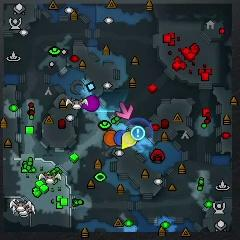Other: (131, 126, 145, 141)
p1: (114, 129, 126, 146)
p3: (80, 95, 100, 112)
p4: (120, 130, 137, 151)
p5: (103, 130, 117, 146)
x1: (116, 102, 134, 120)
